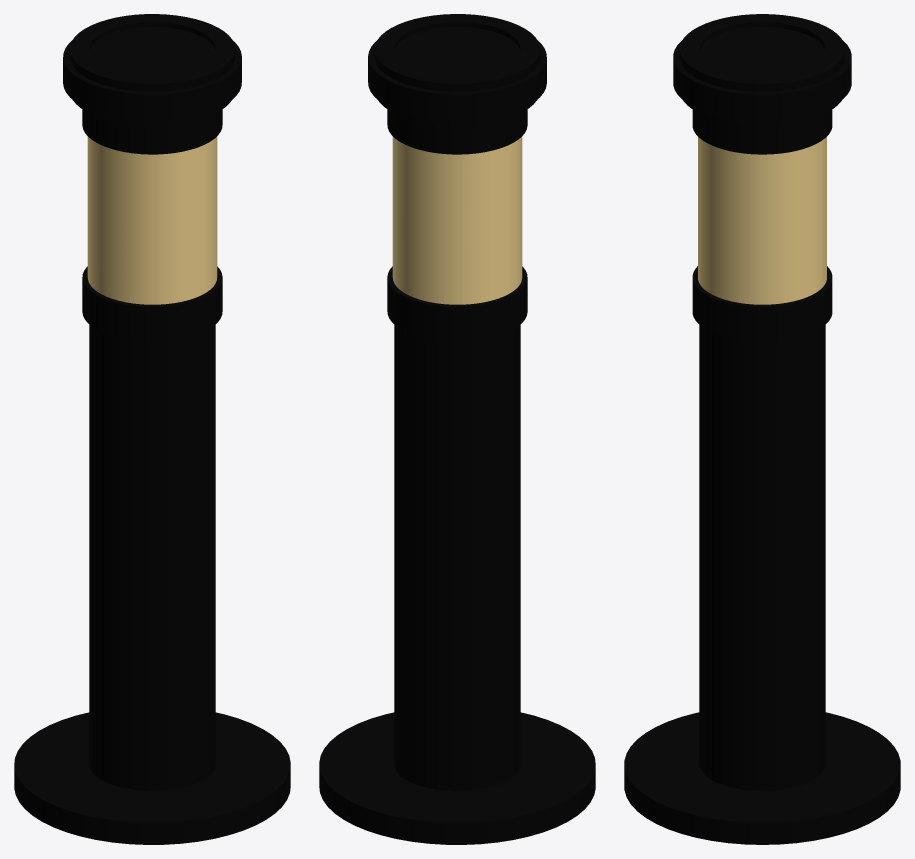
File: objLight.obj
3 renders of one model, left to right at view 1: azimuth 30°, elevation 25°; view 2: azimuth 150°, elevation 25°; view 3: azimuth 270°, elevation 25°, orthographic.
Parts seen in each view (by area): view 1: lamp8; view 2: lamp8; view 3: lamp8.
Boxes of the visible parts, x1=… form: lamp8: x1=14, y1=14, x2=290, y2=844; lamp8: x1=319, y1=14, x2=595, y2=844; lamp8: x1=624, y1=14, x2=900, y2=844.
Bounding box in the file's own units: 0.5138 × 1.51 × 0.5128.
